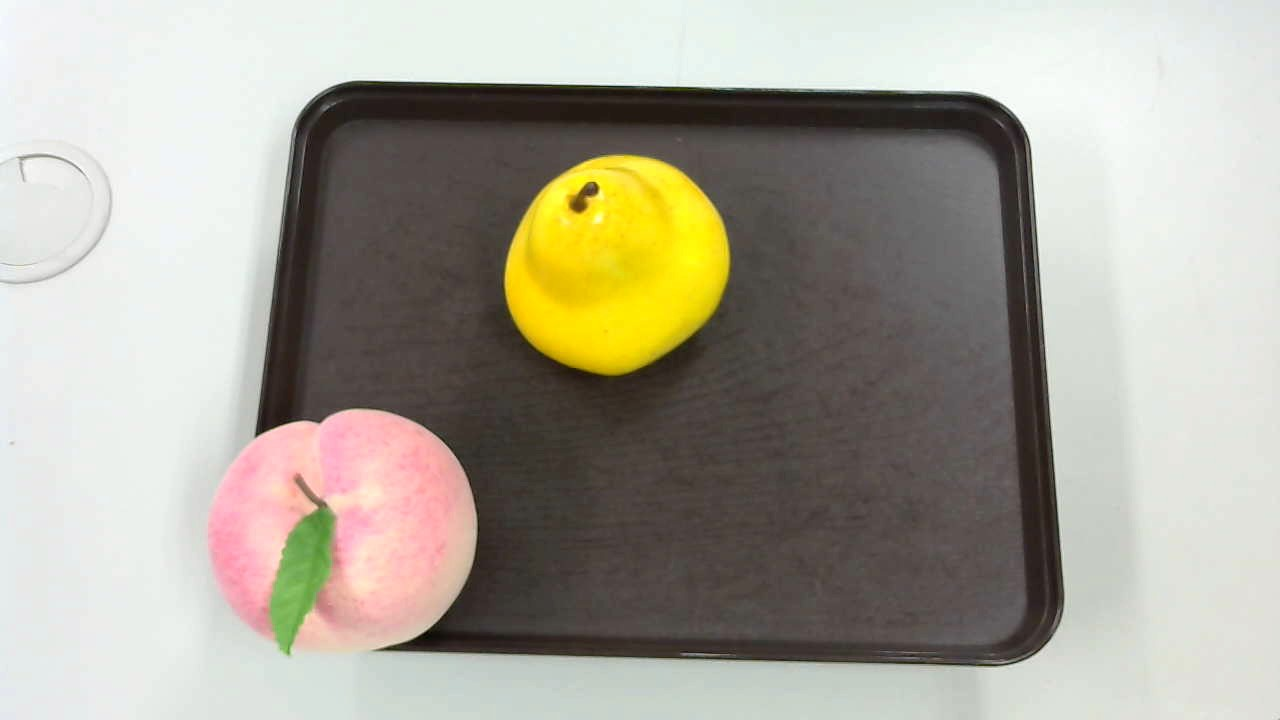peach: (203, 405, 473, 651)
yellow pear: (500, 148, 738, 386)
